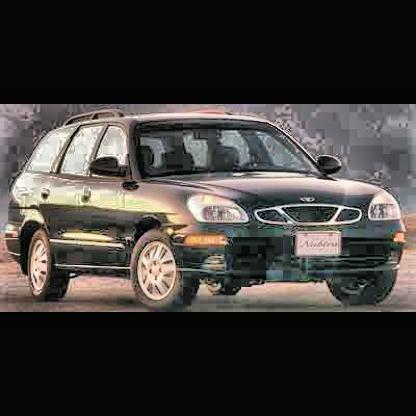Daewoo Nubira Wagon 2002: (3, 110, 411, 310)
